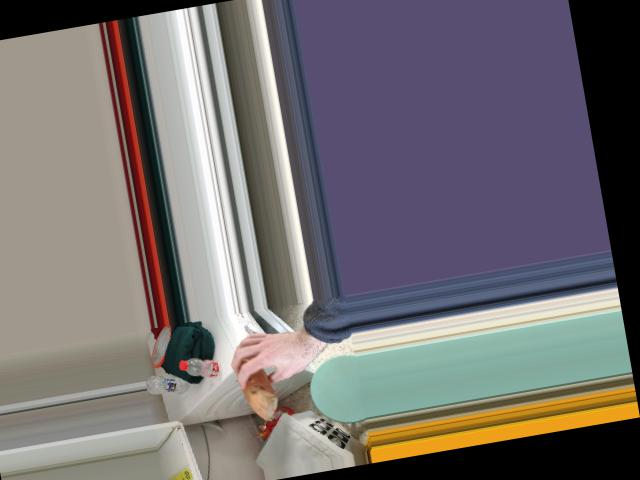sweet_potato: (237, 348, 278, 421)
